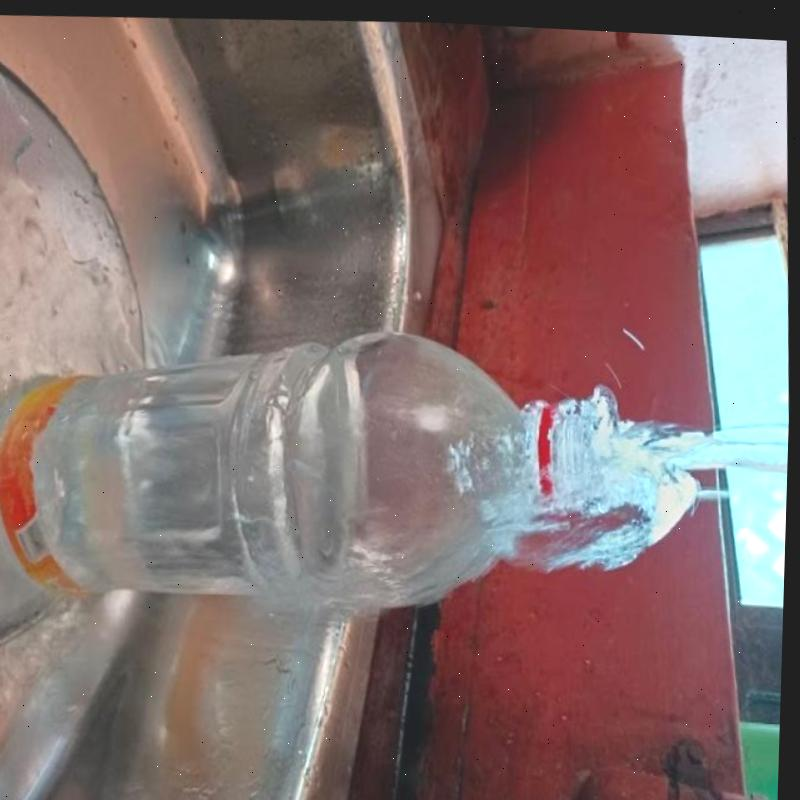botella: (0, 302, 595, 612)
